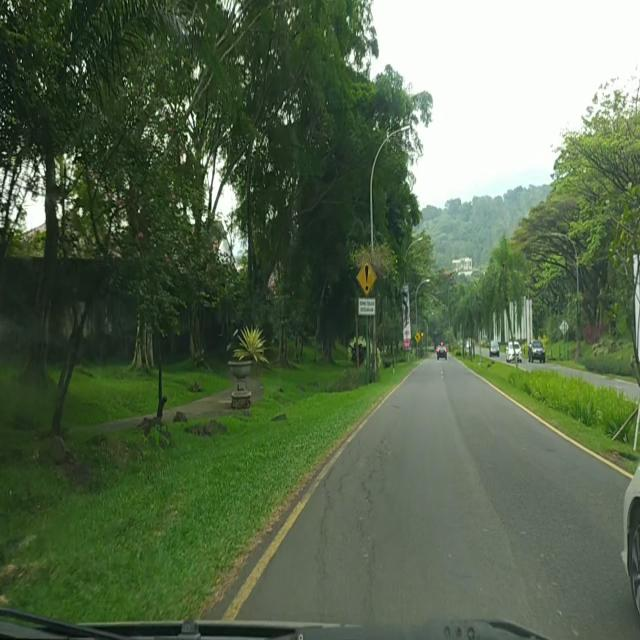Drain Hole: (308, 428, 400, 588)
